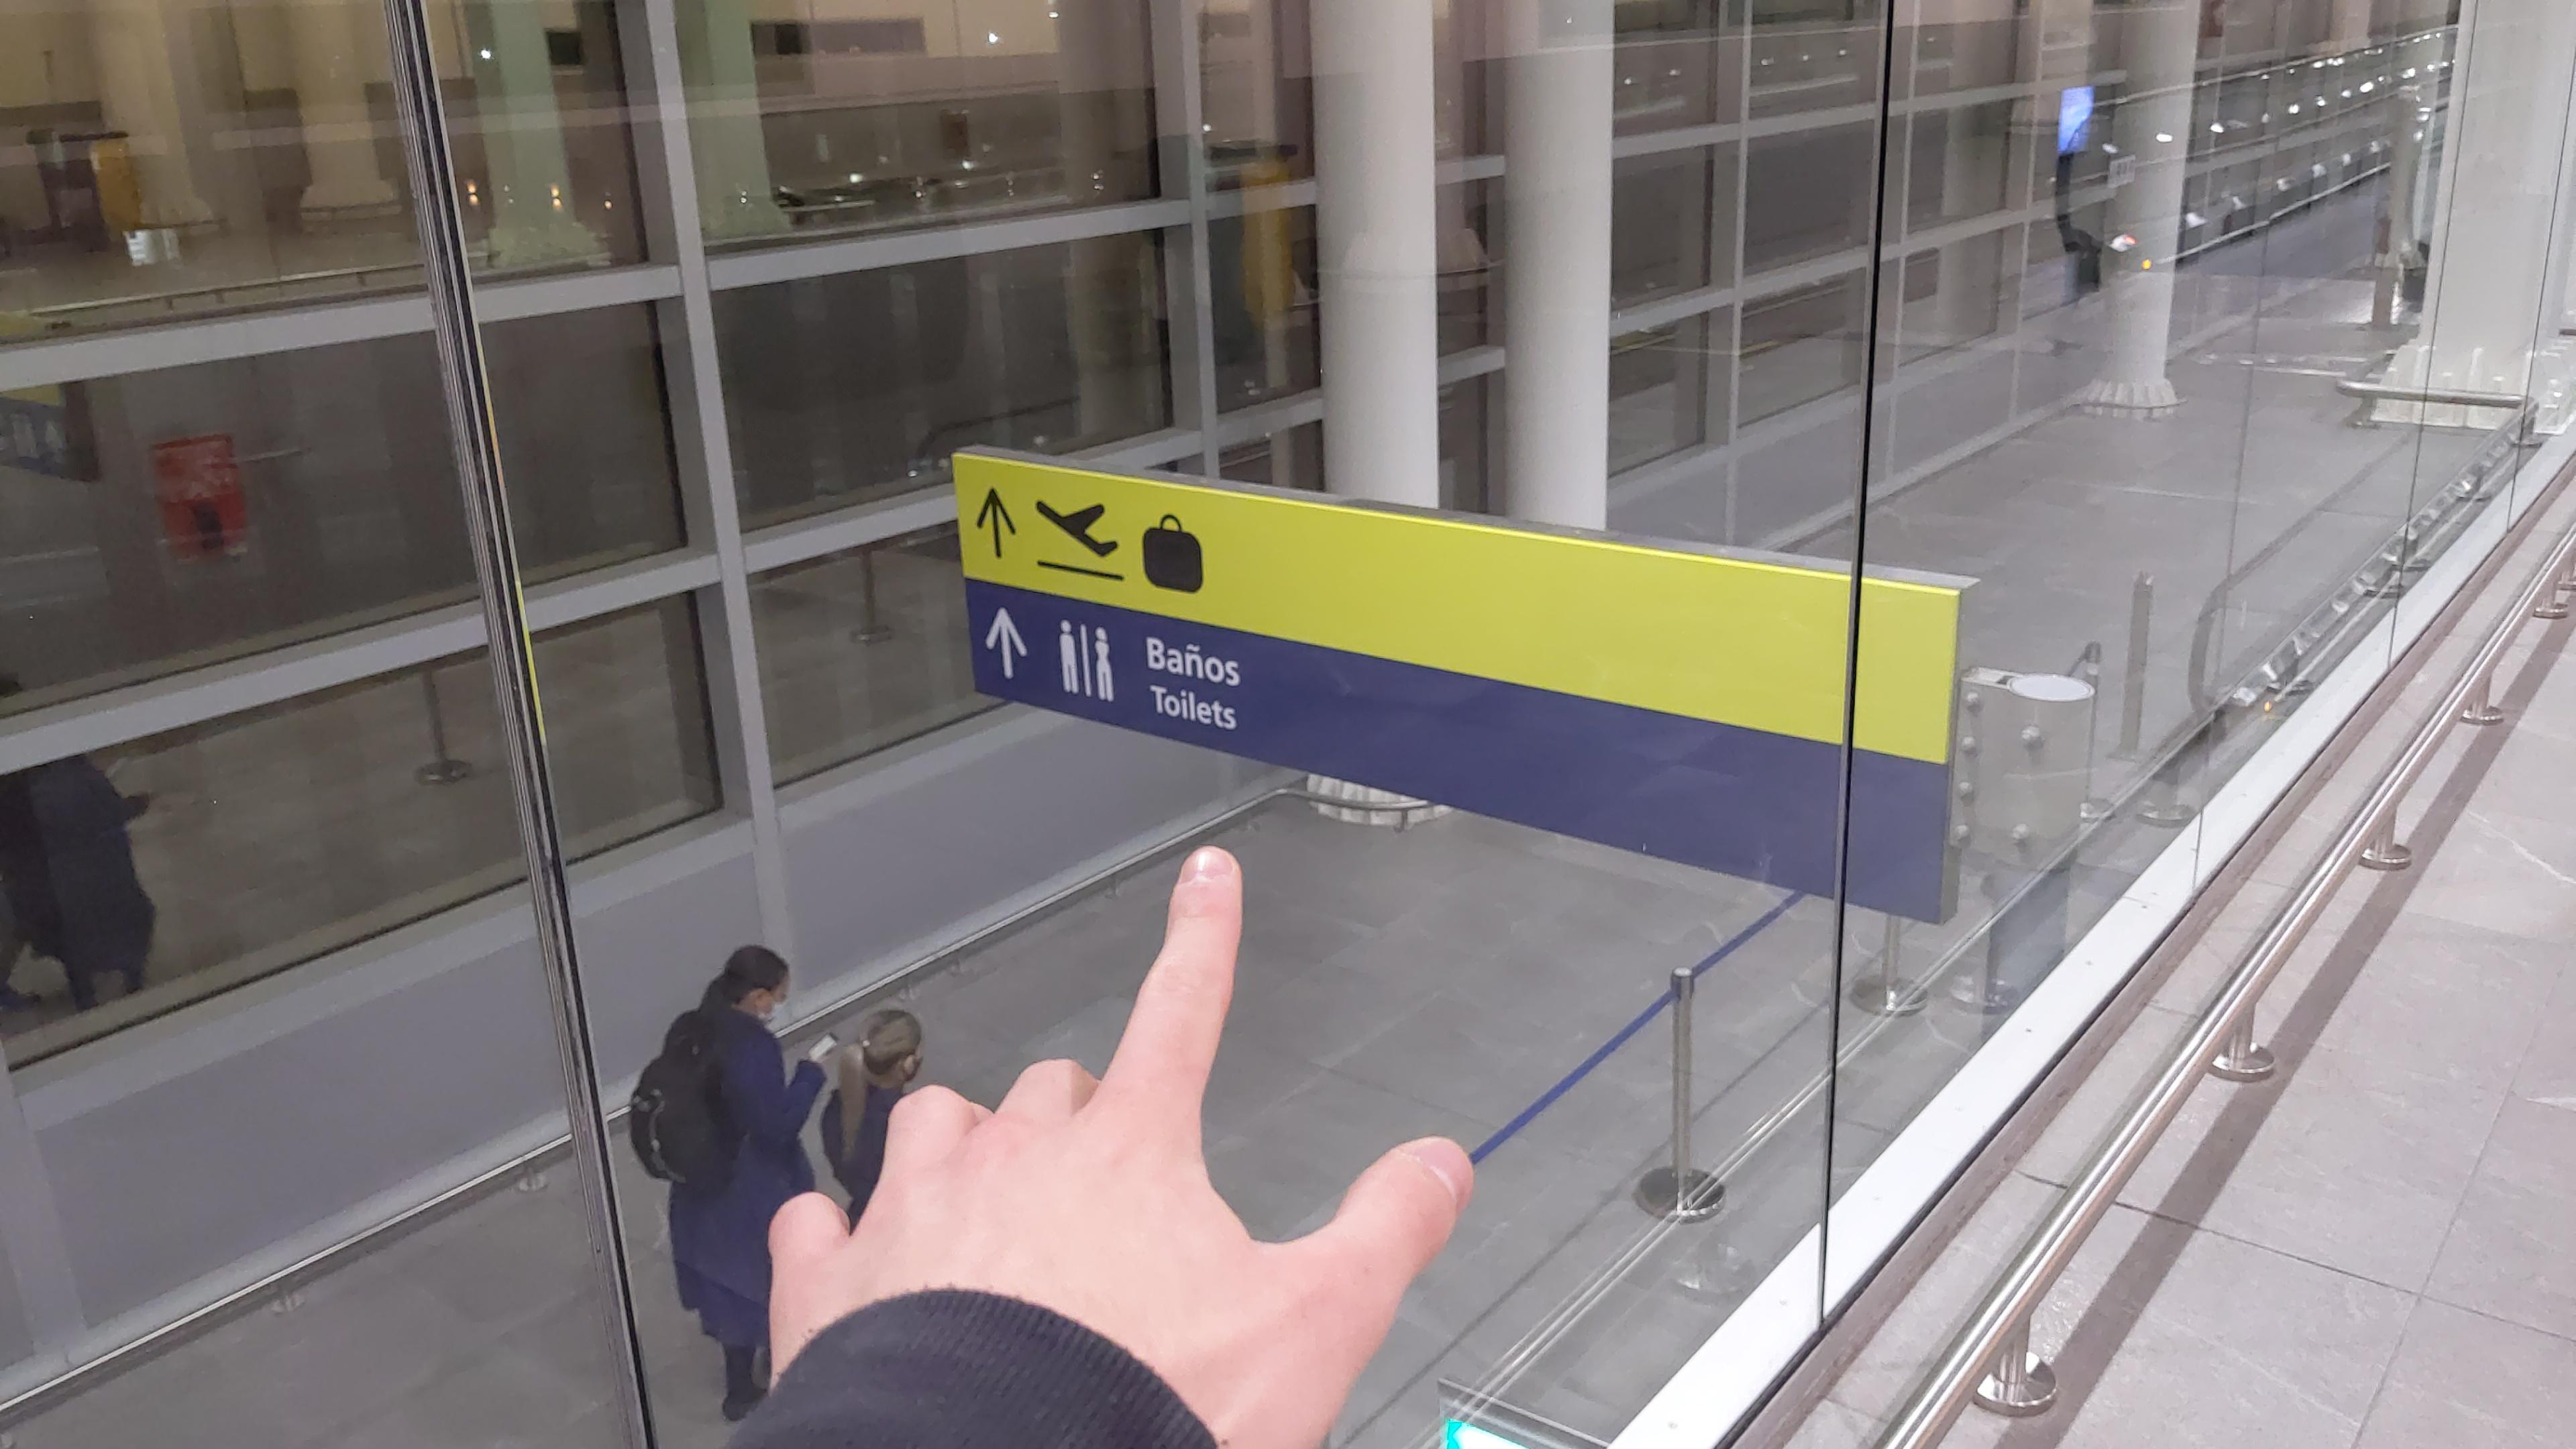airplane symbol: (1031, 494, 1122, 559)
bathrooms: (1053, 616, 1118, 702), (1139, 513, 1205, 596)
thin up arrow: (982, 603, 1030, 681), (973, 485, 1017, 564)
